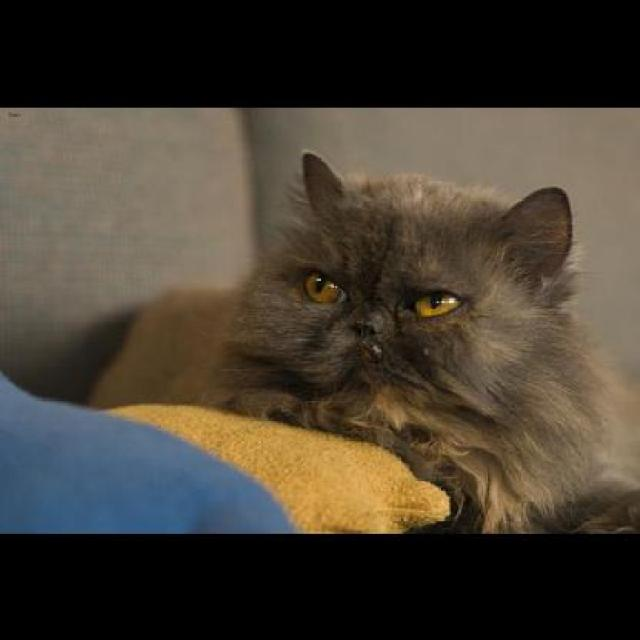unauthorized: (216, 149, 638, 534)
